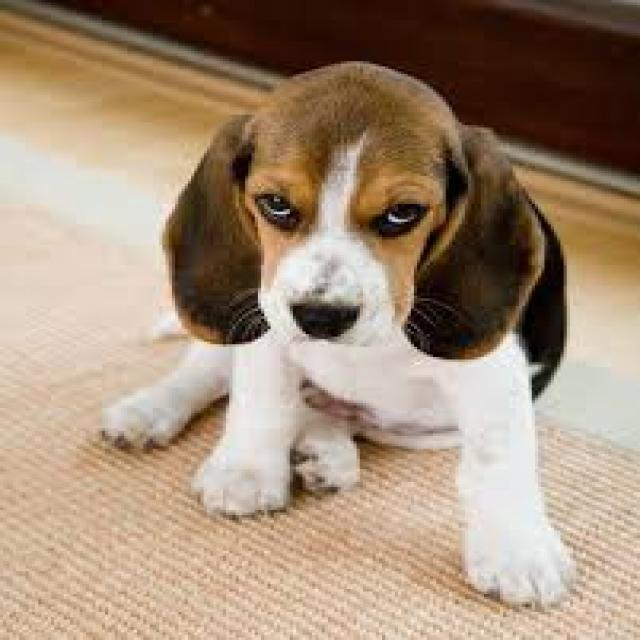Dog: (95, 56, 585, 611)
